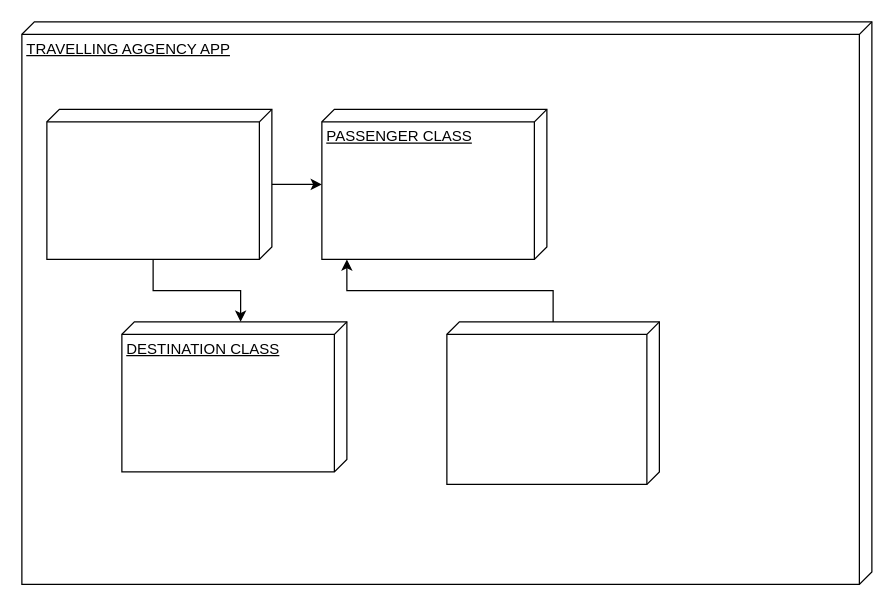
This 894x606 diagram has some shape labels left out. The centre of each missing label's shape, as x and y in pixels:
ACTIVITY CLASS: point 552,402
TRAVEL PACKAGE: point 159,183
